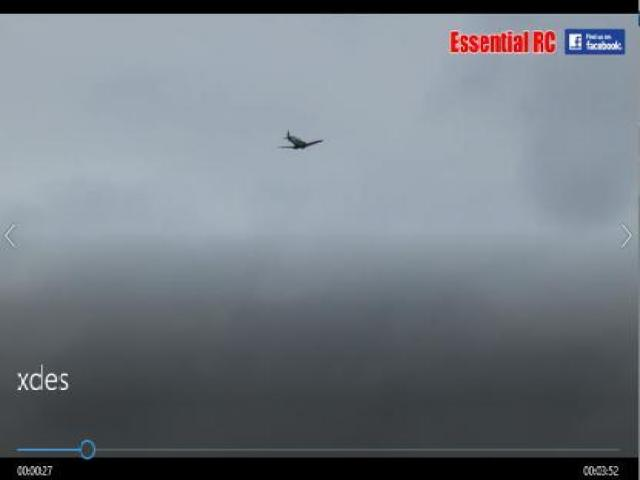uav: (276, 126, 329, 154)
